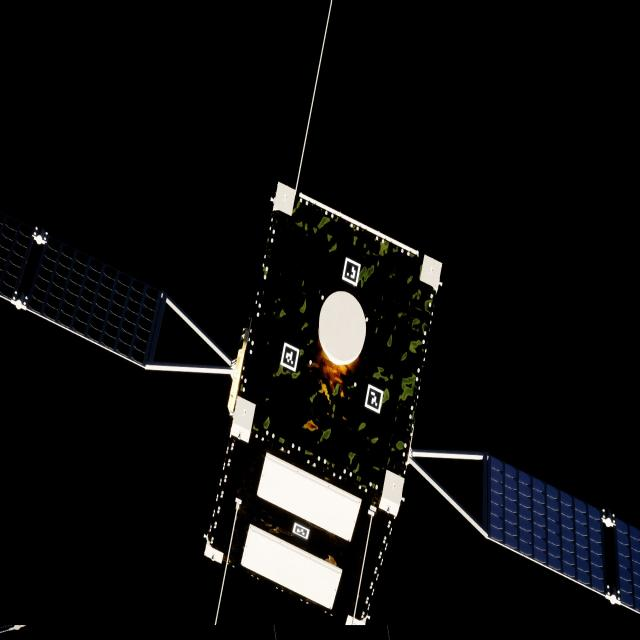medium_debris: (0, 185, 640, 640)
